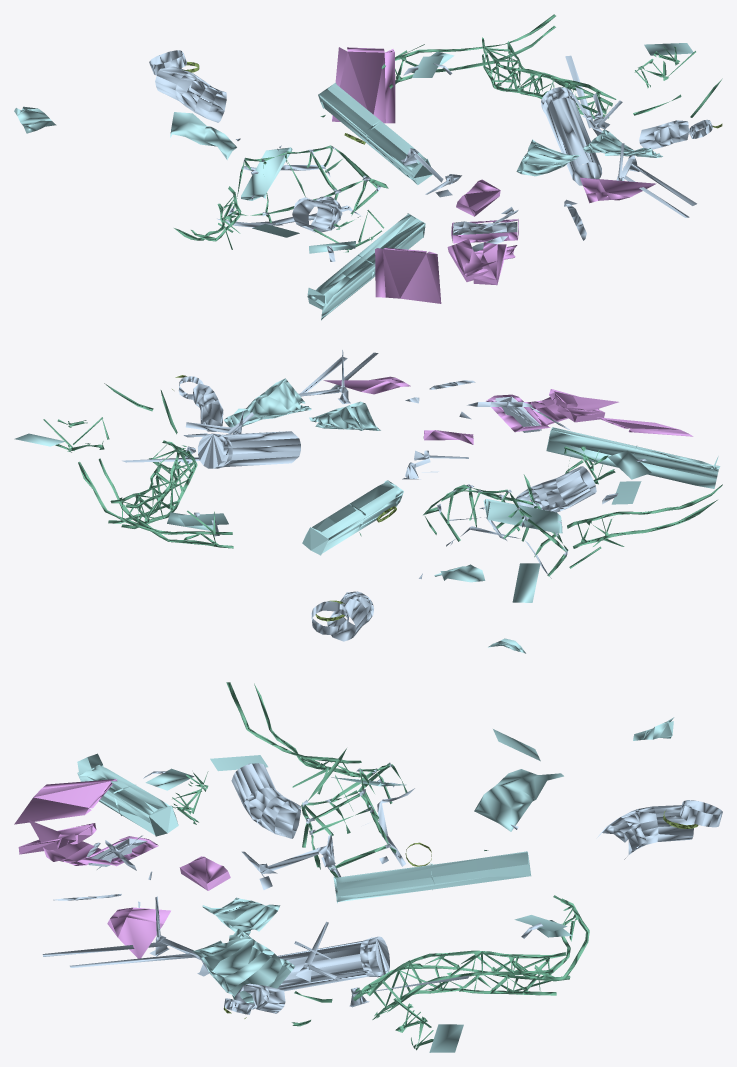
Rendered from debris_b_lod3.glb.
The picture shows the model from 3 angles, top to bottom: view 1: azimuth 30°, elevation 25°; view 2: azimuth 150°, elevation 25°; view 3: azimuth 270°, elevation 25°; orthographic projection. The views are drawn at different scales.
Bounding box in the file's own units: 32.9 × 4.72 × 28.89.
